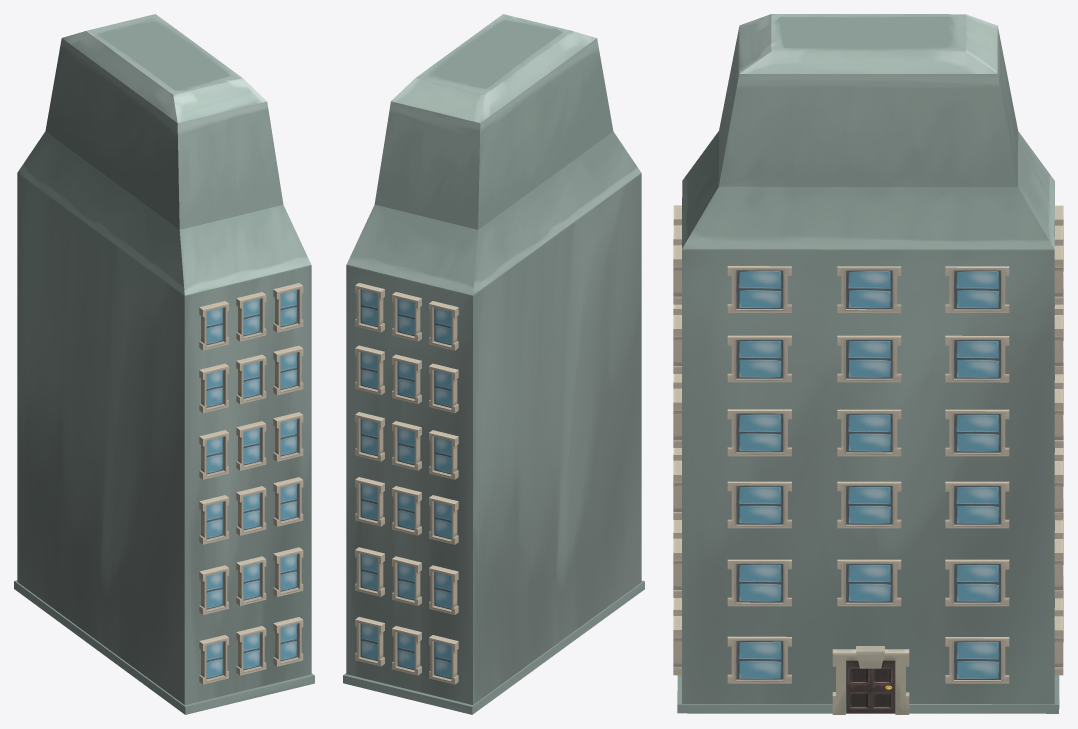
Rendered from house_2tiles.fbx.
3 views of the same model, side by side, from view 1: azimuth 30°, elevation 25°; view 2: azimuth 150°, elevation 25°; view 3: azimuth 270°, elevation 25° (orthographic). The views are drawn at different scales.
Parts seen in each view (by area): view 1: Box017, Box518, Box519, Box521, Box522, Box520, Box523, Box524, Box525, Box528, Box529, Box526 (+7 smaller); view 2: Box017, Box541, Box536, Box549, Box550, Box540, Box543, Box544, Box545, Box552, Box537, Box538 (+7 smaller); view 3: Box017, Box500, Box502, Box503, Box510, Box514, Box516, Box517, Box504, Box508, Box509, Box511 (+7 smaller).
Boxes of the visible parts, bbox=[...] form: Box017: bbox=[14, 14, 314, 714]; Box518: bbox=[273, 617, 303, 666]; Box519: bbox=[273, 547, 303, 596]; Box521: bbox=[273, 412, 303, 461]; Box522: bbox=[273, 345, 303, 395]; Box520: bbox=[273, 477, 303, 526]; Box523: bbox=[273, 283, 303, 332]; Box524: bbox=[236, 626, 266, 675]; Box525: bbox=[236, 556, 266, 605]; Box528: bbox=[236, 354, 266, 404]; Box529: bbox=[236, 292, 266, 341]; Box526: bbox=[236, 486, 266, 535]; Box017: bbox=[343, 14, 644, 714]; Box541: bbox=[429, 301, 458, 350]; Box536: bbox=[429, 635, 458, 684]; Box549: bbox=[392, 486, 421, 535]; Box550: bbox=[392, 556, 421, 605]; Box540: bbox=[429, 363, 458, 413]; Box543: bbox=[392, 354, 421, 404]; Box544: bbox=[392, 421, 421, 470]; Box545: bbox=[355, 412, 384, 461]; Box552: bbox=[355, 617, 384, 666]; Box537: bbox=[429, 565, 458, 614]; Box538: bbox=[429, 495, 458, 544]; Box017: bbox=[677, 14, 1059, 713]; Box500: bbox=[832, 646, 909, 714]; Box502: bbox=[945, 559, 1009, 606]; Box503: bbox=[945, 481, 1009, 528]; Box510: bbox=[727, 409, 791, 456]; Box514: bbox=[837, 335, 901, 382]; Box516: bbox=[837, 481, 901, 528]; Box517: bbox=[837, 559, 901, 606]; Box504: bbox=[945, 409, 1009, 456]; Box508: bbox=[727, 559, 791, 606]; Box509: bbox=[727, 481, 791, 528]; Box511: bbox=[727, 335, 791, 382].
Bounding box in the file's own units: 462 × 1846 × 1012.
